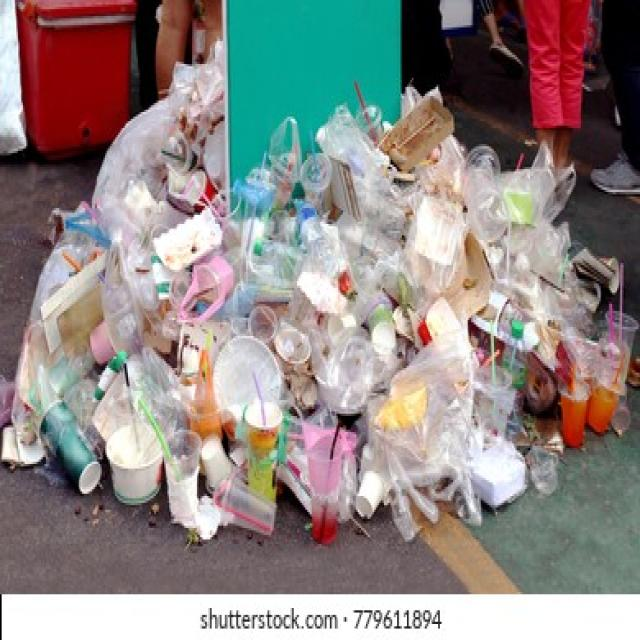trash: (92, 144, 619, 510)
